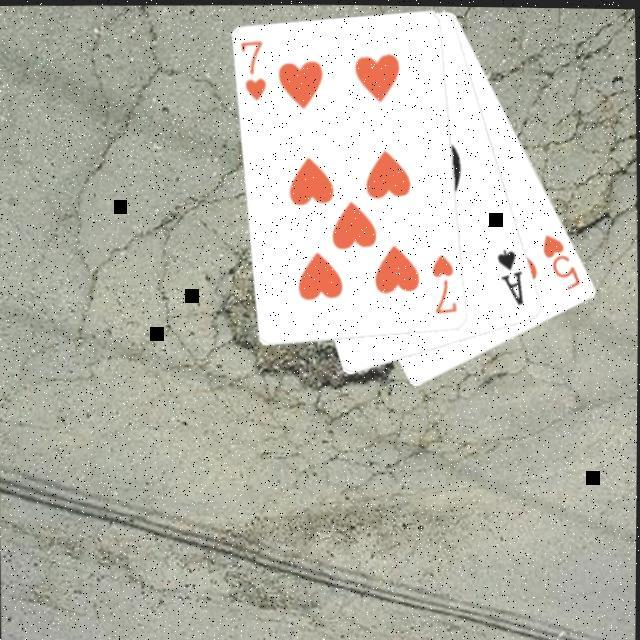5H: (541, 230, 586, 294)
7H: (238, 38, 271, 105), (431, 251, 462, 318)
AS: (496, 246, 529, 309)
